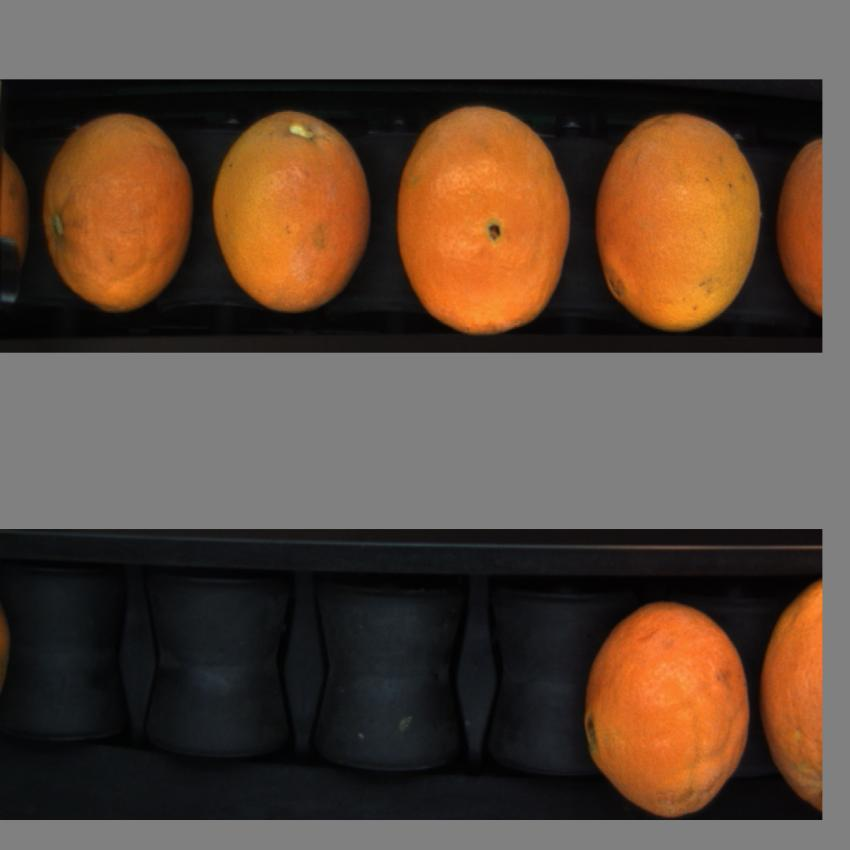Buen estado: (394, 104, 576, 336), (584, 583, 754, 818), (596, 101, 764, 335), (211, 103, 380, 321), (37, 112, 205, 314), (762, 581, 822, 807)
Mal estado: (776, 125, 824, 310)
